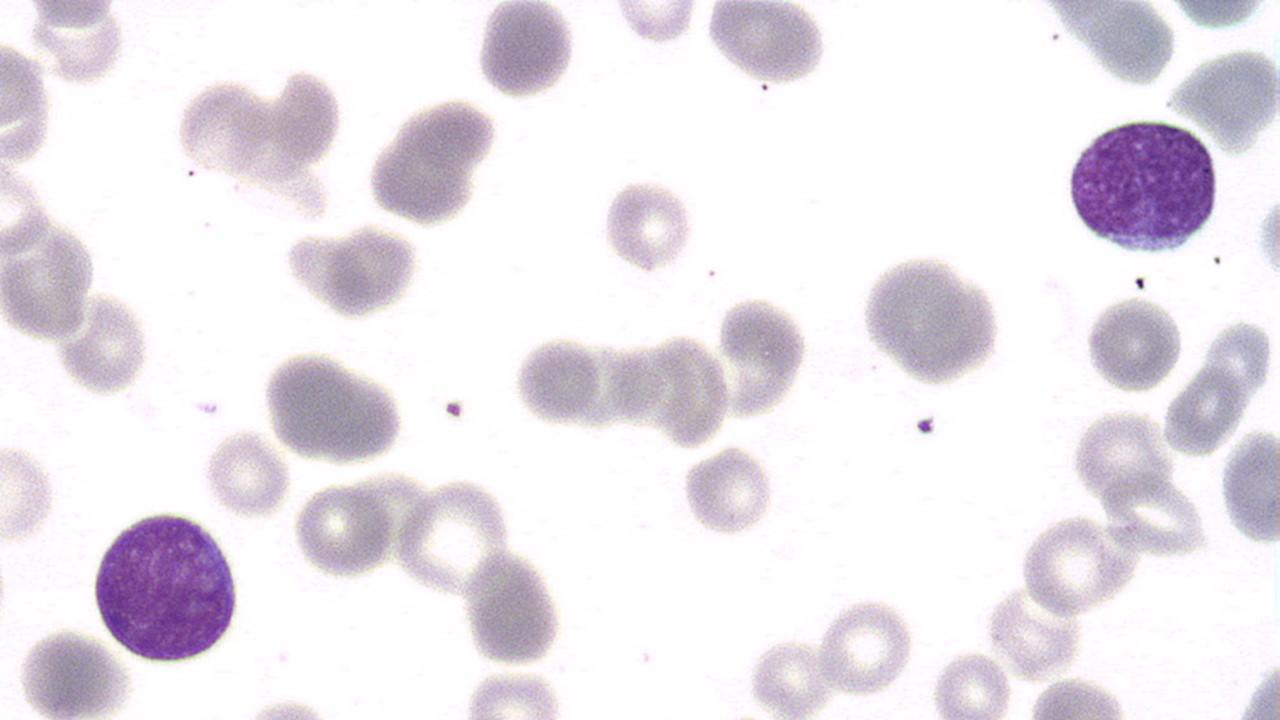Platelets: (16, 626, 133, 716), (1080, 293, 1184, 394), (911, 414, 937, 437)
RBC: (855, 248, 1007, 388), (260, 350, 409, 467), (366, 96, 499, 226), (391, 477, 514, 600), (456, 548, 566, 666), (708, 292, 808, 420), (0, 209, 96, 341), (1016, 514, 1136, 618), (470, 1, 580, 102), (815, 592, 917, 699), (1168, 44, 1278, 142), (15, 624, 132, 716), (703, 0, 828, 85), (1082, 292, 1184, 394), (290, 481, 394, 580), (1070, 411, 1178, 506), (173, 77, 274, 177), (598, 173, 696, 276), (1097, 469, 1209, 558), (57, 286, 149, 394), (676, 446, 780, 541), (650, 331, 732, 449), (319, 224, 417, 320), (512, 334, 599, 430), (201, 430, 291, 518), (1219, 424, 1280, 545), (566, 336, 638, 435), (746, 635, 834, 716), (631, 338, 699, 440), (1, 34, 52, 158), (0, 439, 57, 547), (928, 650, 1014, 718), (602, 340, 664, 434), (458, 670, 569, 718), (1, 155, 51, 261), (1160, 1, 1270, 31), (1253, 179, 1279, 296)
WBC: (88, 504, 244, 666), (1060, 112, 1224, 258)
